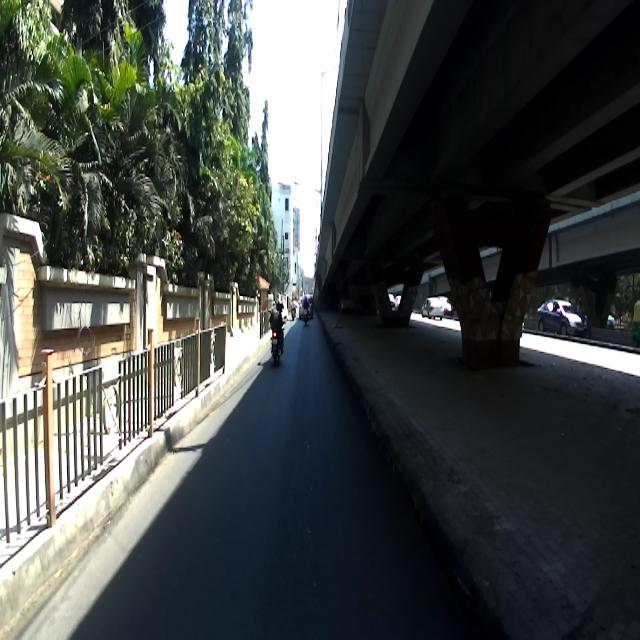motorcycle ahead at: (268, 324, 286, 370)
